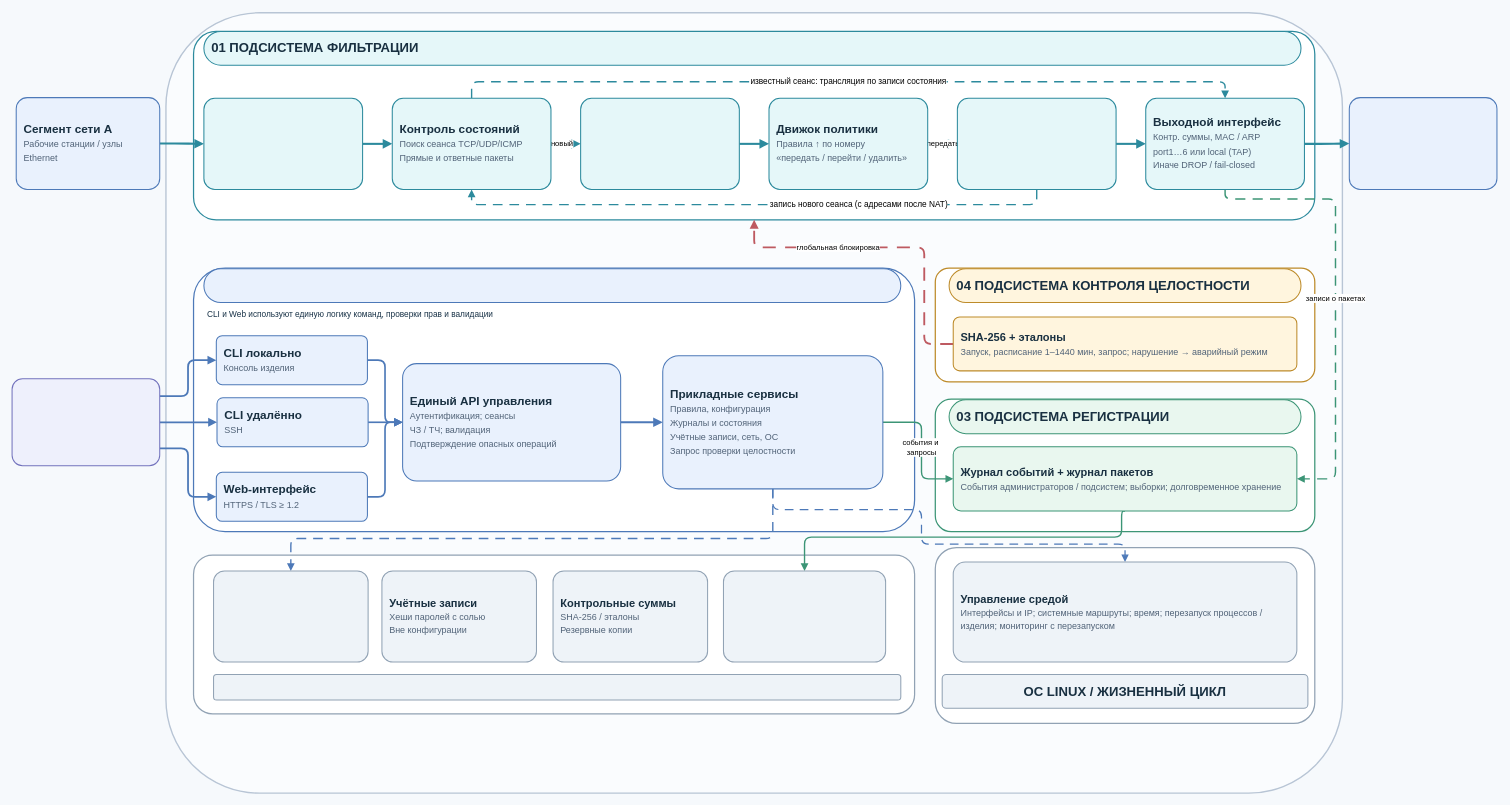
Some shapes in this 1510 by 805 pixel diagram are drawn without their labels. Here are the shapes that lost their labels. From the top down, the box of each, then its label:
(203, 97, 363, 190): Приём / передача Ethernet port1 … port6 (AF_PACKET) Отображение имён ОС
(580, 97, 740, 190): DNAT · до политики Адрес / порт получателя Первое подходящее правило
(957, 97, 1116, 190): SNAT · после политики Адрес / порт отправителя Новая запись состояния
(1348, 97, 1497, 190): Сегмент сети B Другие сети / LAN до 6 портов всего
(203, 268, 901, 303): 02 ПОДСИСТЕМА УПРАВЛЕНИЯ
(11, 378, 160, 466): Администратор Локальная консоль SSH / HTTPS
(213, 570, 368, 662): Конфигурация Текстовый формат Правила / порты / параметры
(723, 570, 886, 662): Два журнала События: неизменяемый Пакеты: очистка по ЧЗ
(213, 674, 901, 700): ПОСТОЯННЫЕ ДАННЫЕ
